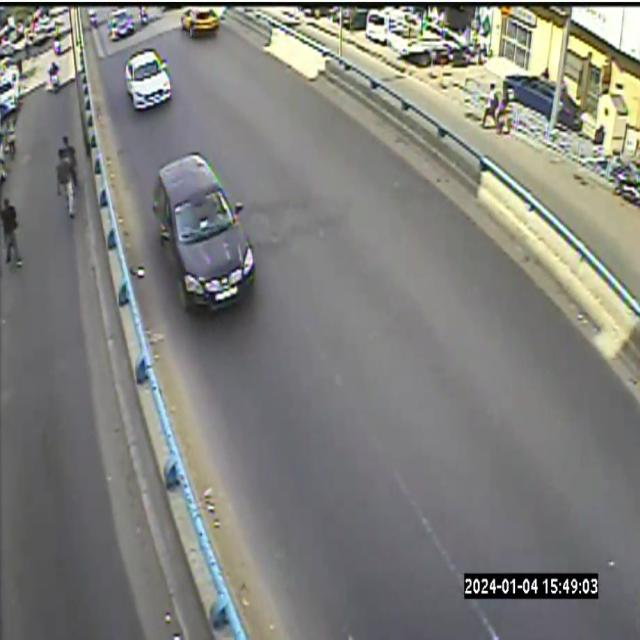car: (152, 152, 256, 308), (125, 49, 172, 109), (181, 6, 220, 38)
